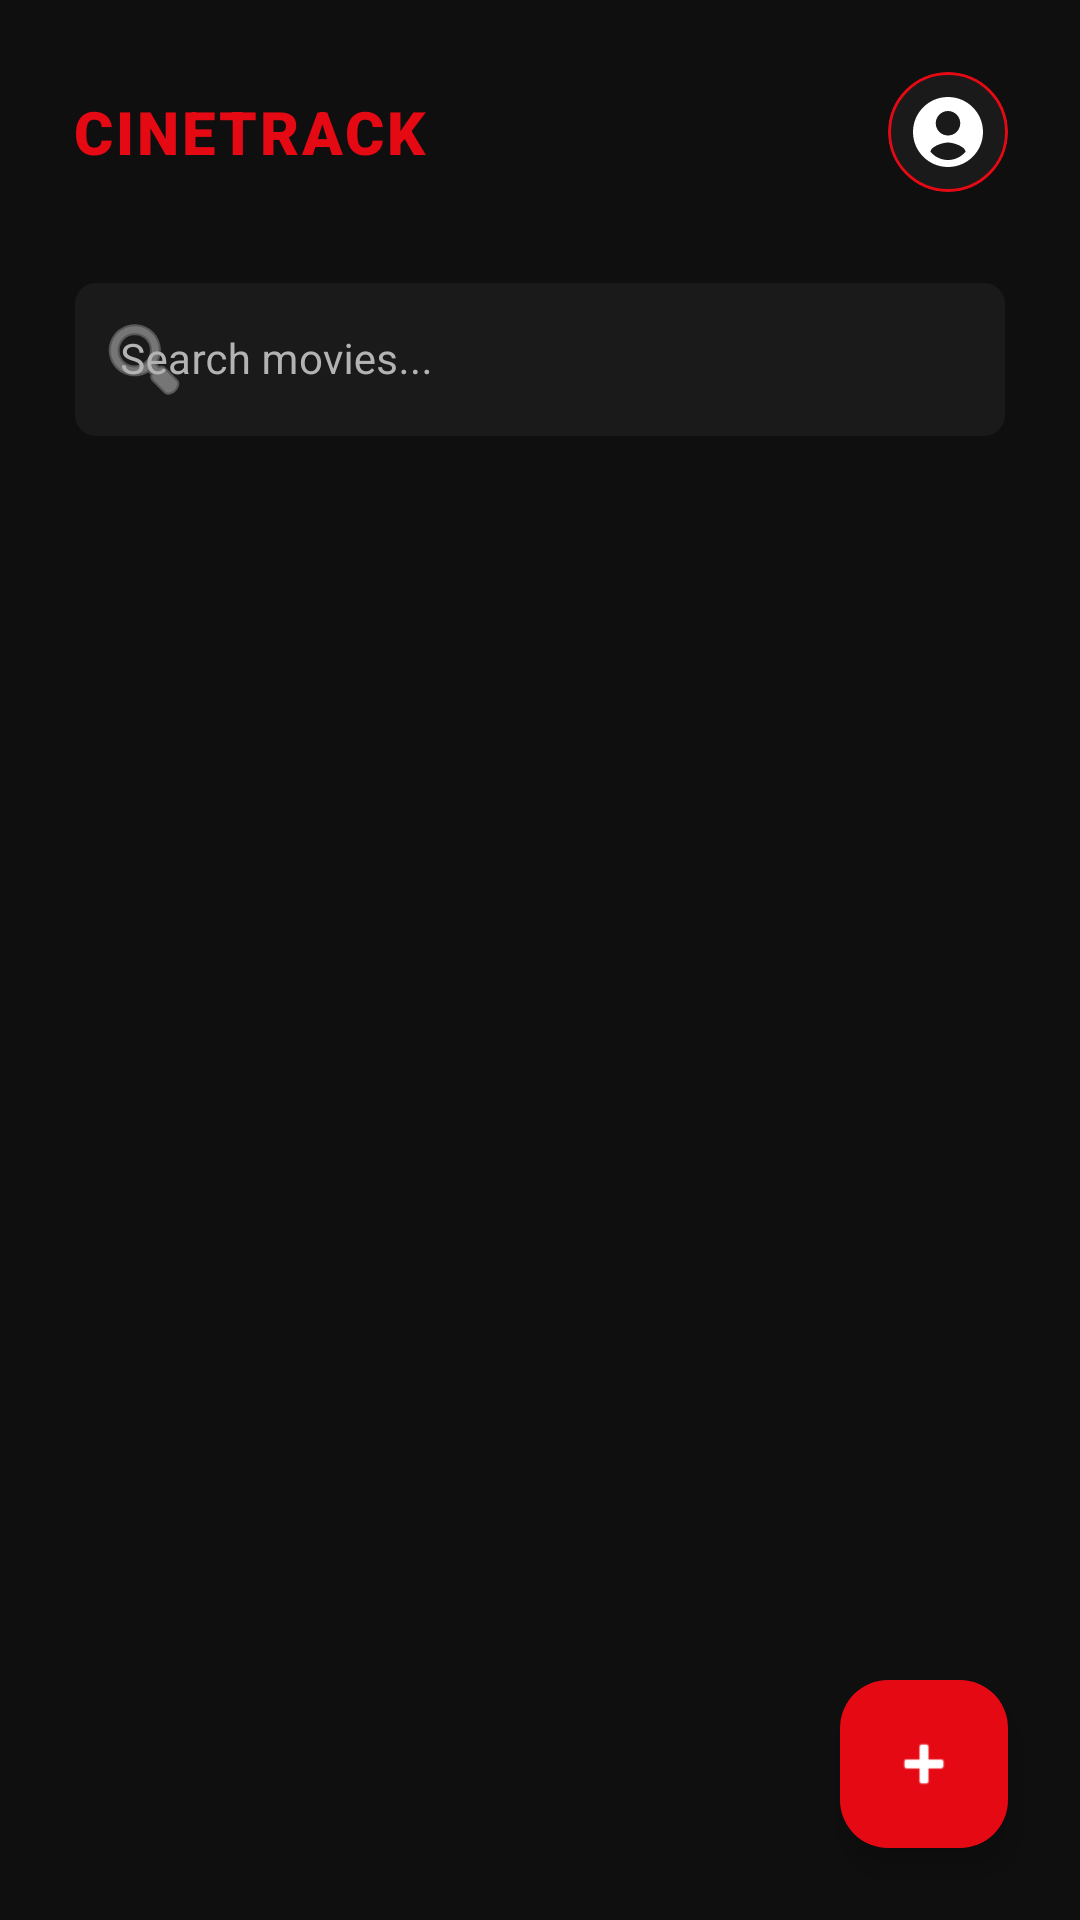

Where icons sit on this 1080x1920 app screen, as (x1, y1, x2, y2):
Add Movie: (840, 1680, 1008, 1848)
person profile: (913, 97, 983, 167)
